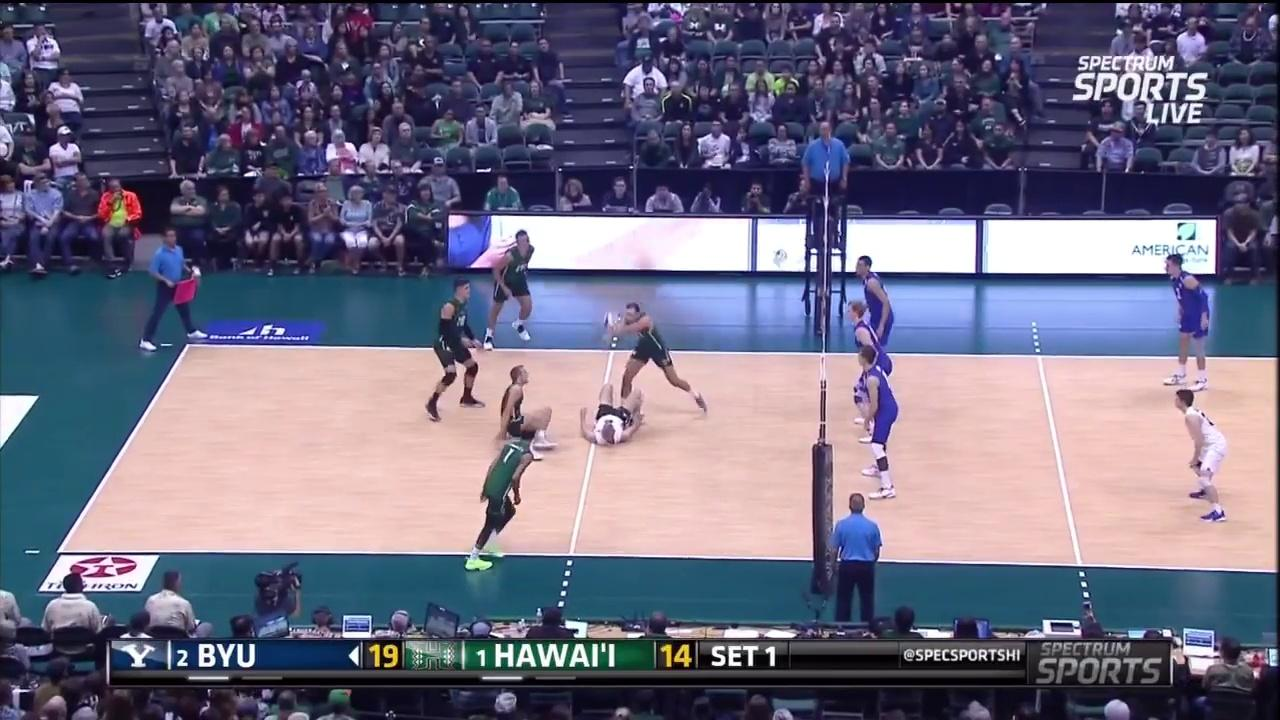player: (600, 301, 705, 426), (464, 425, 534, 574), (847, 250, 901, 426), (841, 299, 899, 441), (851, 344, 903, 501), (1171, 390, 1234, 519), (425, 278, 481, 419), (1166, 254, 1215, 391), (484, 231, 537, 353), (498, 364, 558, 456), (580, 380, 646, 454)
refree: (829, 488, 889, 627), (139, 228, 202, 350), (805, 121, 851, 249)
